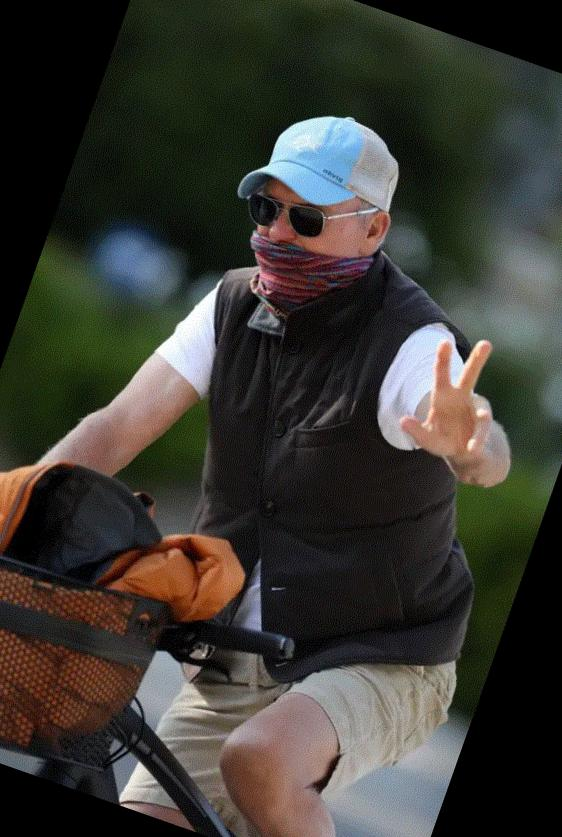mask_weared_incorrect: (225, 186, 379, 304)
